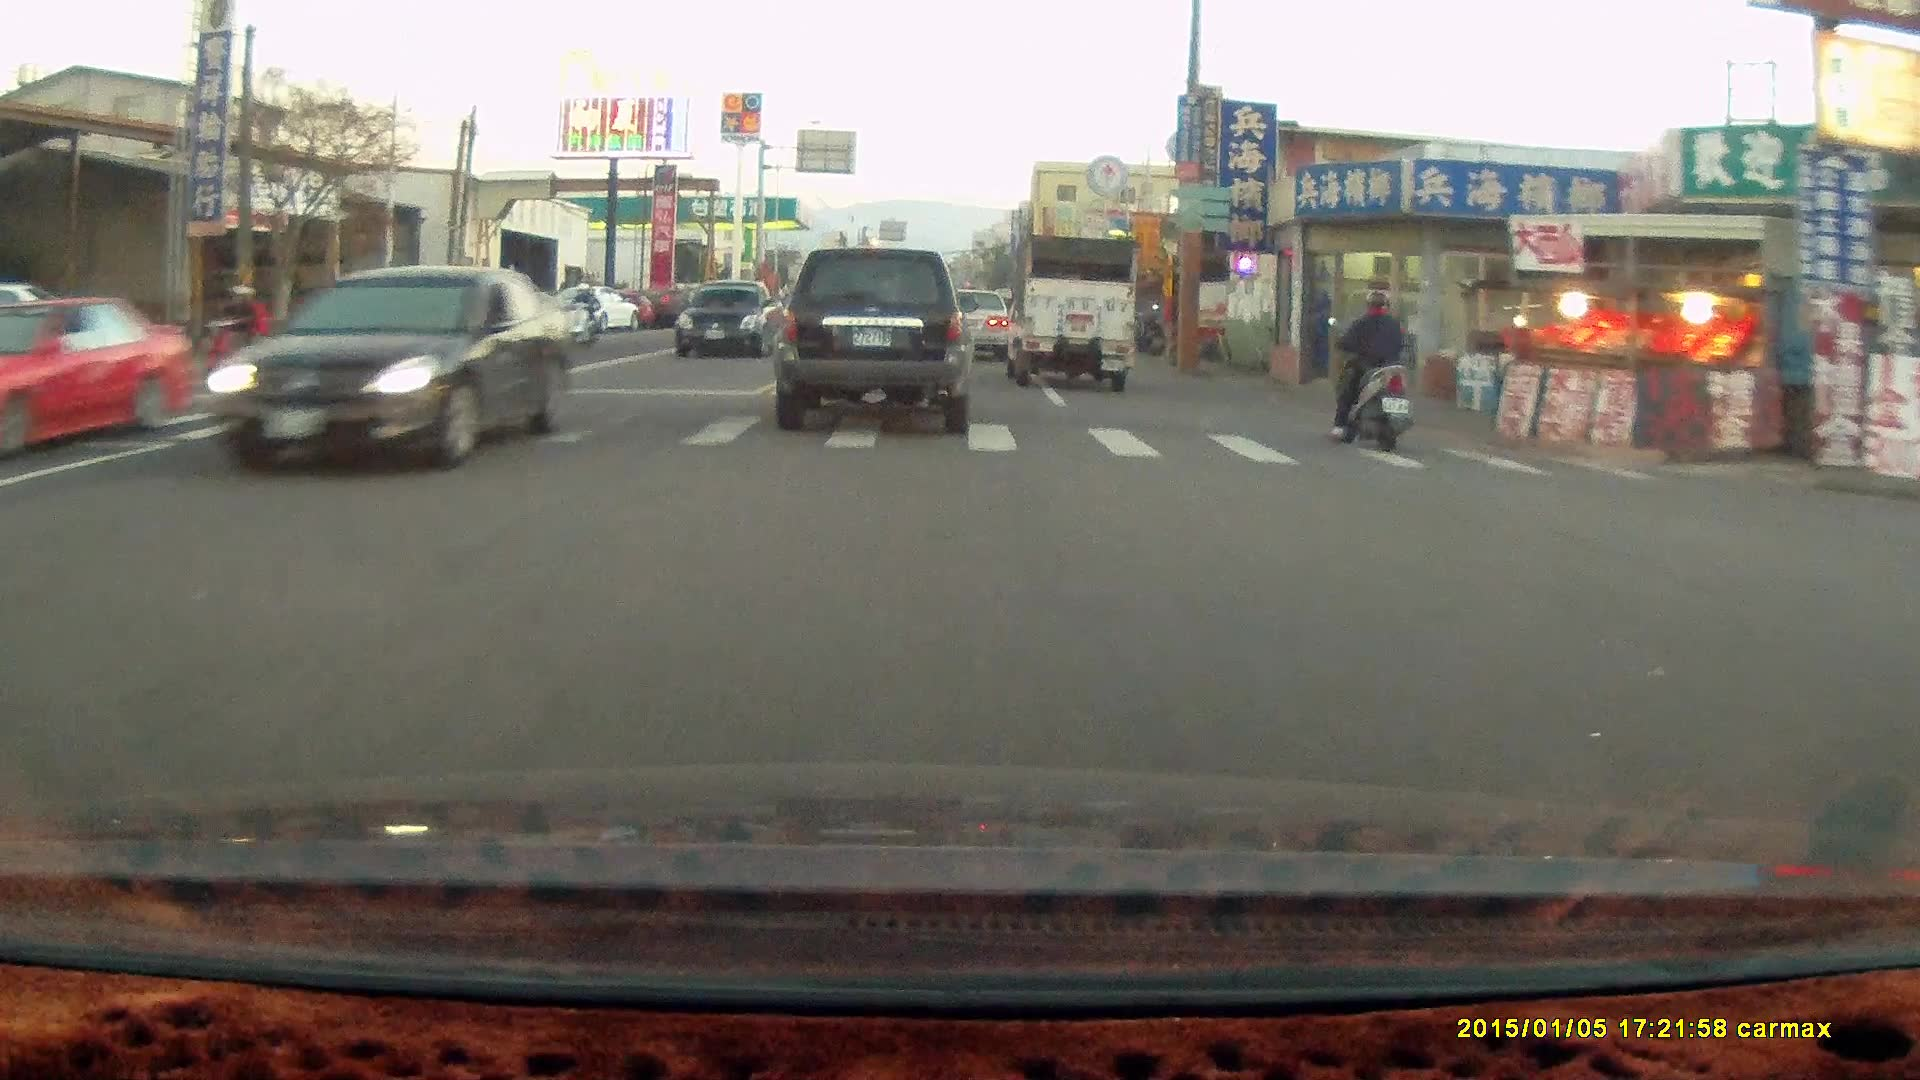rider: (1324, 287, 1415, 453), (190, 278, 276, 386), (560, 281, 600, 356)
vehicle: (196, 262, 581, 476), (773, 247, 979, 434), (1, 291, 200, 465), (1002, 233, 1139, 393), (1, 283, 109, 361), (675, 283, 779, 364), (933, 286, 1009, 360), (948, 290, 1019, 363)
